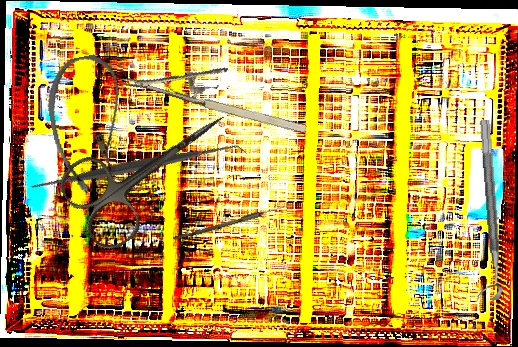Cannula: (38, 50, 139, 198)
Fixation Ring: (464, 119, 504, 302)
Iris Scissors: (51, 79, 252, 257)
Needle Holder: (119, 39, 317, 140)
Spatula Surgical: (23, 54, 247, 279)
Surgical Spoon: (172, 201, 294, 243)
